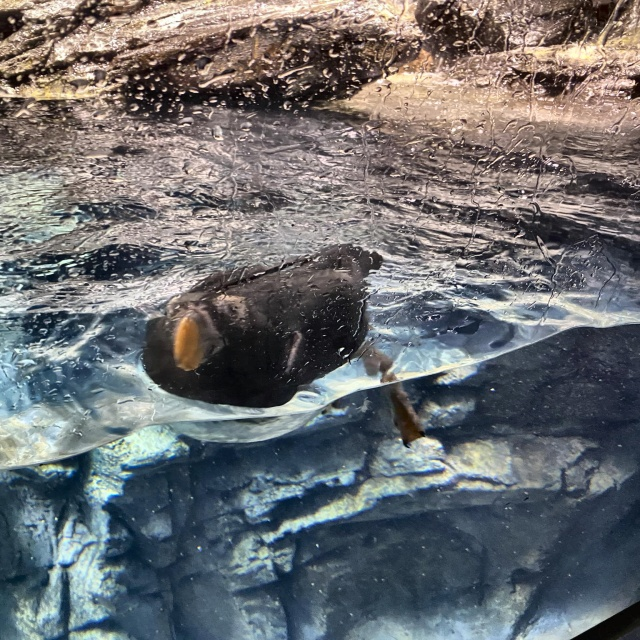puffin: (144, 245, 424, 448)
